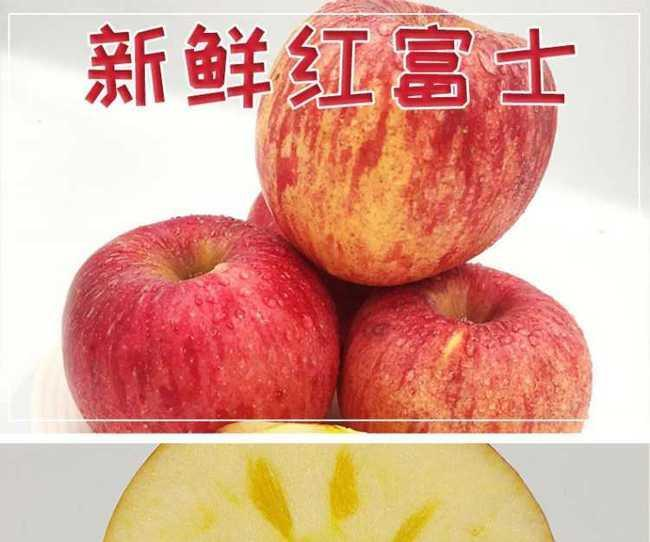apple: (250, 4, 562, 282), (61, 214, 339, 440), (337, 259, 592, 435)
